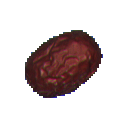gd: (20, 15, 115, 110)
